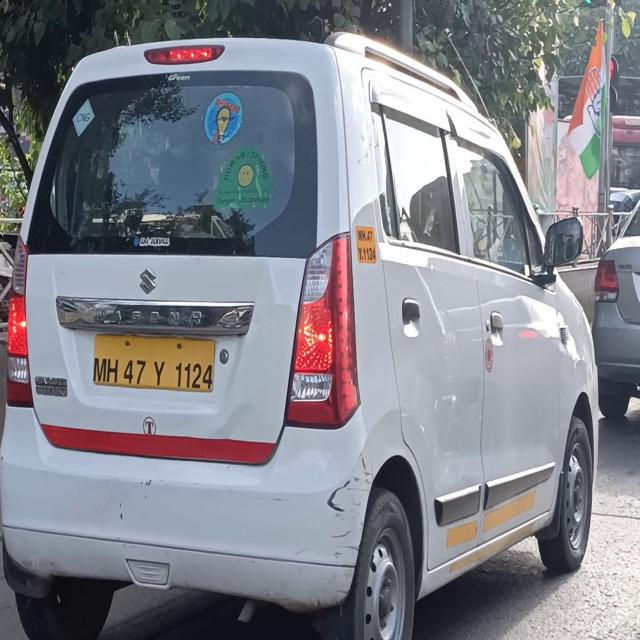Plate: (93, 334, 217, 393)
